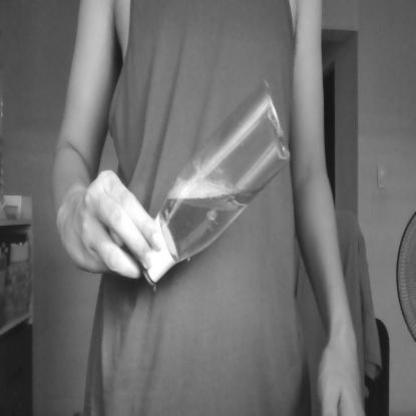Plastic Bottle: (134, 88, 292, 283)
